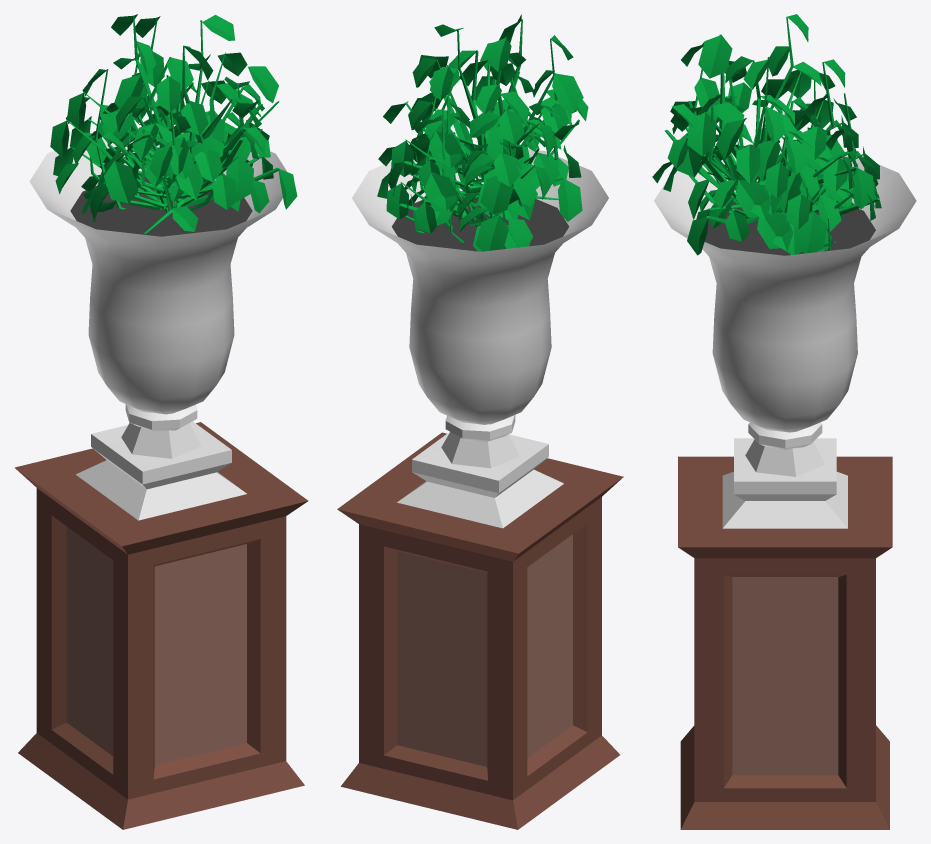
Rendered from flower_016.glb.
3 views of the same model, side by side, from view 1: azimuth 30°, elevation 25°; view 2: azimuth 150°, elevation 25°; view 3: azimuth 270°, elevation 25° (orthographic). The views are drawn at different scales.
Parts seen in each view (by area): view 1: flower_016; view 2: flower_016; view 3: flower_016.
Boxes of the visible parts, x1,y1,x2,y2 form: flower_016: (14, 14, 308, 829); flower_016: (337, 14, 623, 829); flower_016: (652, 14, 916, 829).
Size of the model in its own units: 0.4587 by 1.46 by 0.4615.
1 material, 1 textured.
